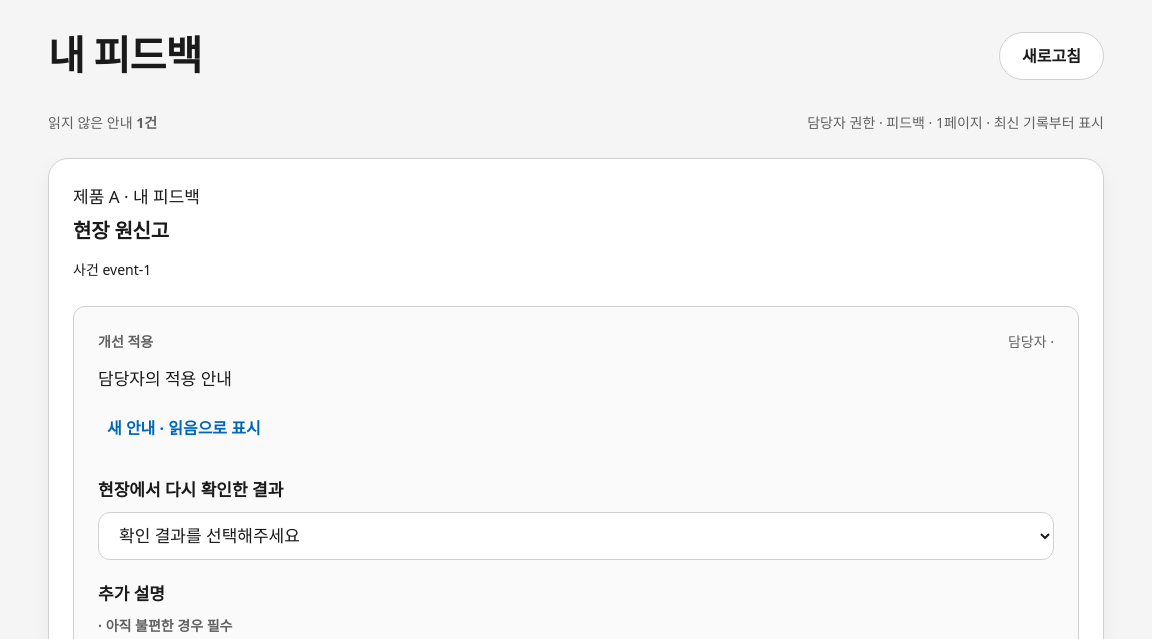
Test: does not confirm/reset an empty successful response for confirm_update
Expected: the heading "현장 원신고" is shown, [73,217,169,244]
Step 1. Select "아직 불편합니다" in the dropdown labelled "현장에서 다시 확인한 결과" → [576, 536], box [98,512,1054,560]
(page scrolled)
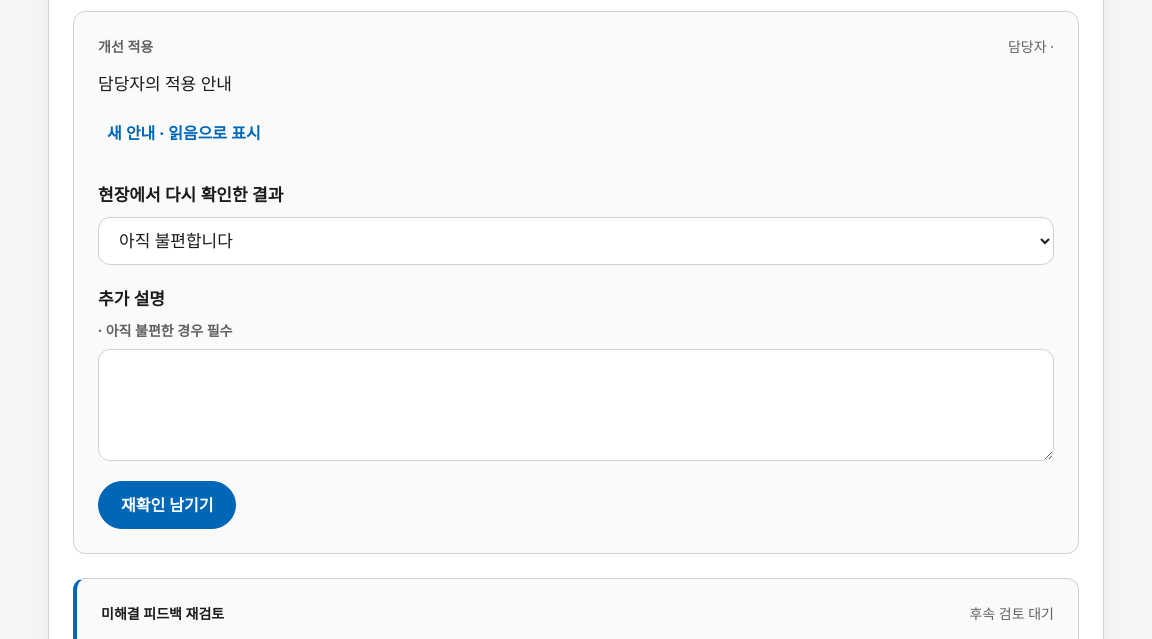
Step 2. Type "처음 작성한 현장 근거" into the text box labelled "추가 설명 · 아직 불편한 경우 필수" → [576, 405], box [98,349,1054,461]
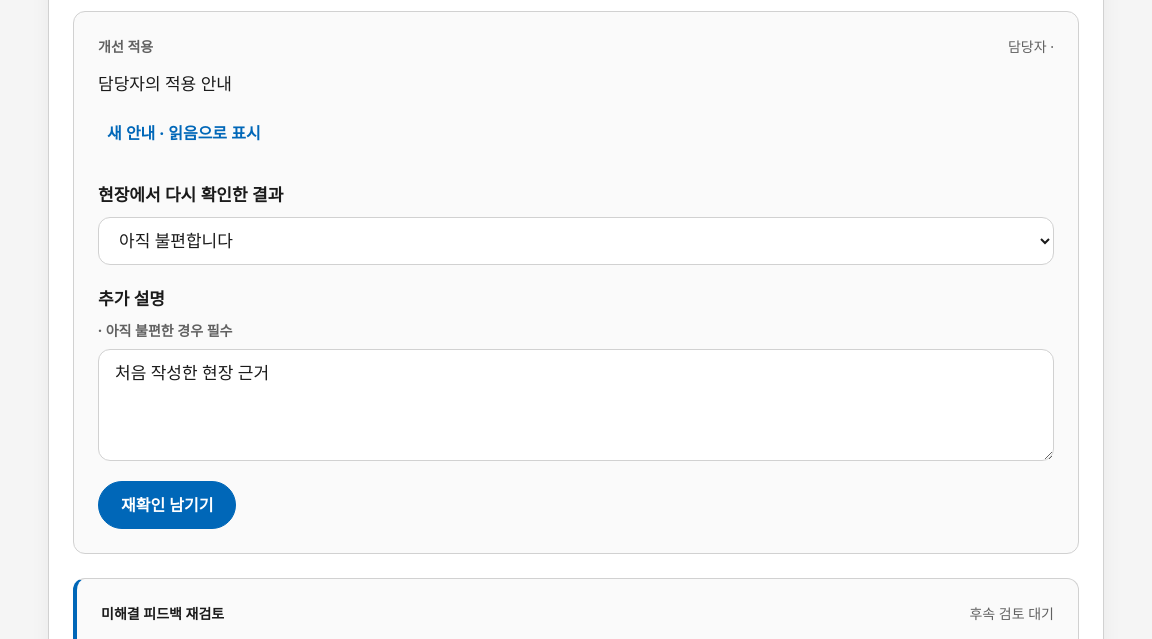
Step 3. Submit the form "재확인 남기기", box [98,181,1054,529]
(page scrolled)
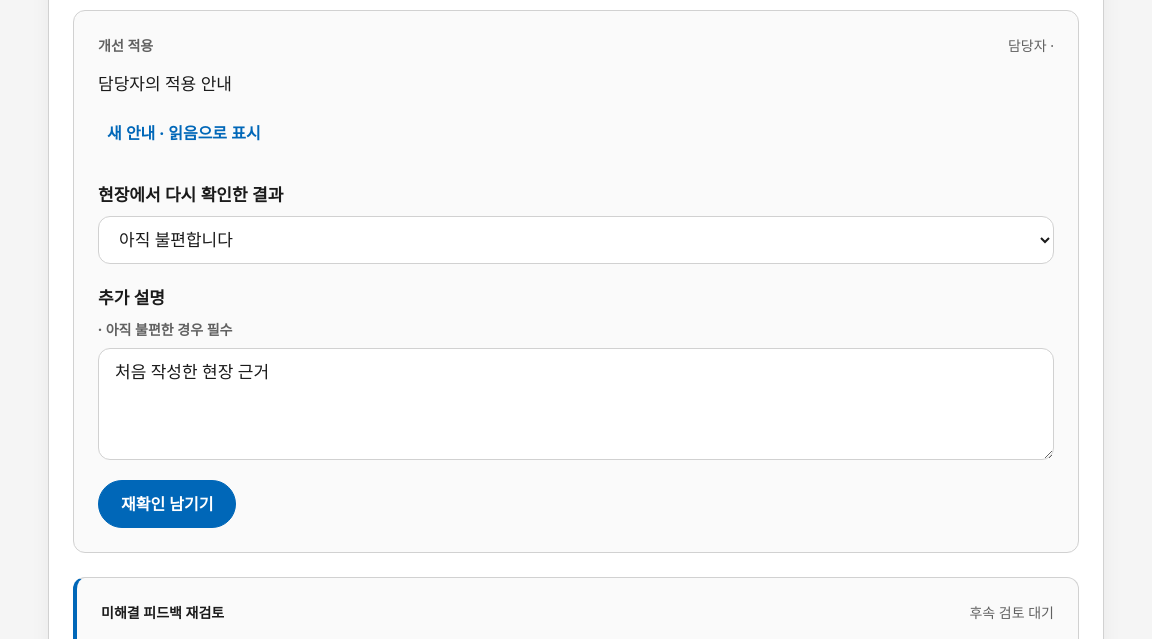
Expected: the text "기록을 저장했습니다." is not shown
Step 4. Submit the form "재확인 남기기", box [98,181,1054,528]
(page scrolled)
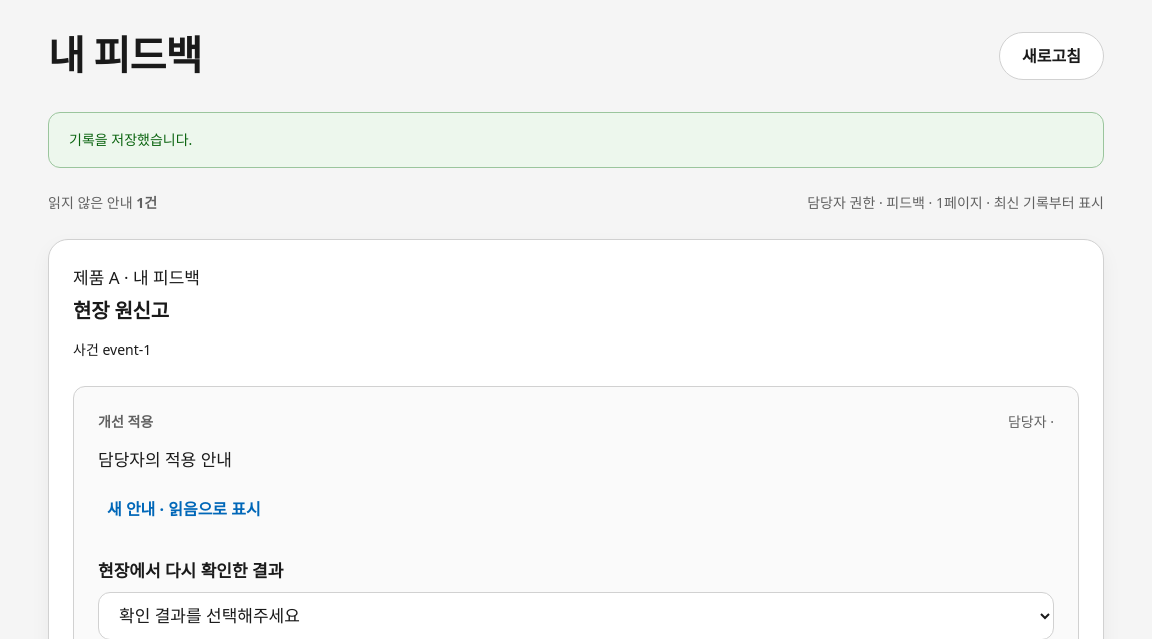
Expected: the text "기록을 저장했습니다." is shown, [48,112,1104,168]
